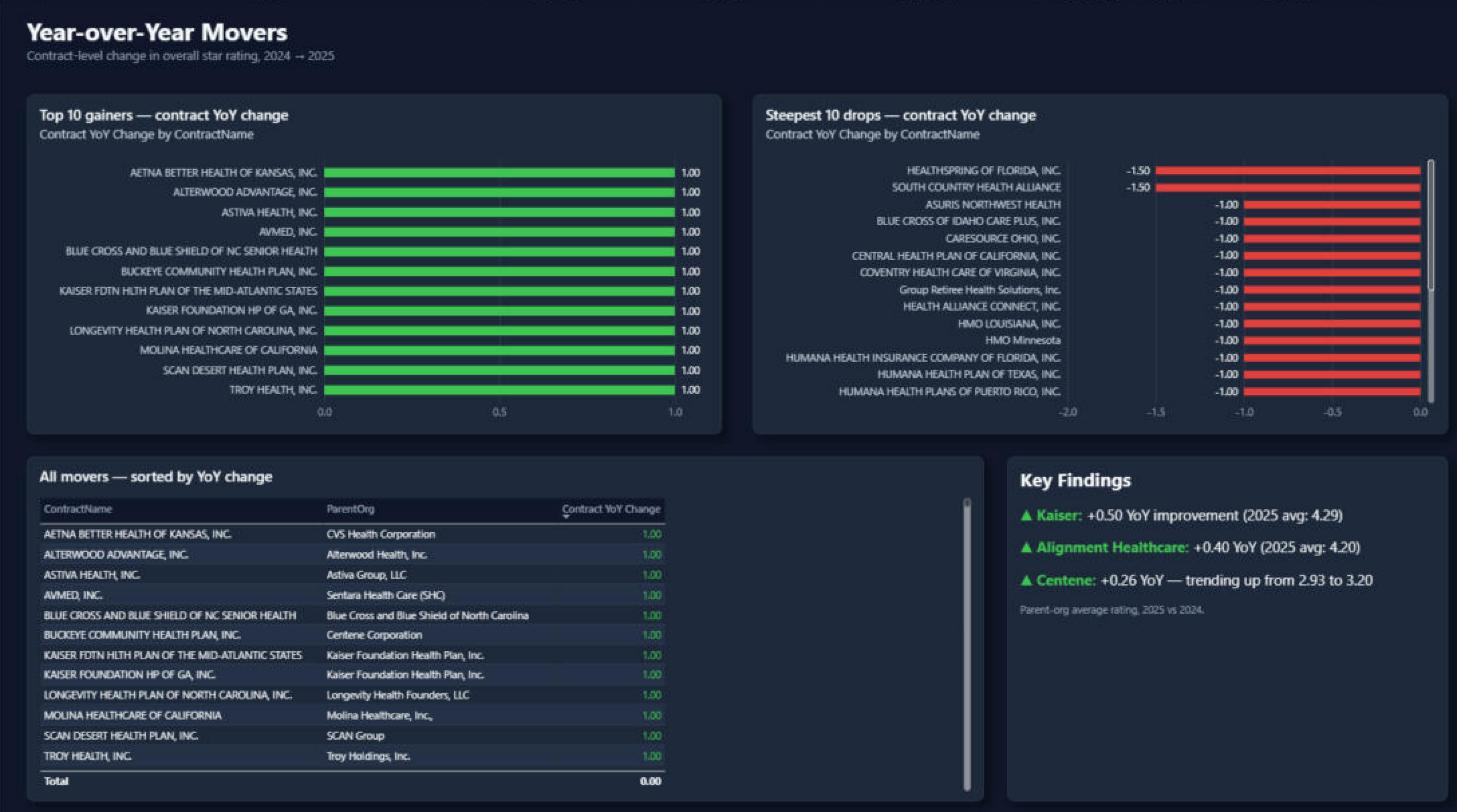

This screenshot's page, from the dashboard's own definition file:
{"tool":"powerbi","page":{"name":"Year-over-Year Movers","canvas":[1920,1080],"ordinal":1},"visuals":[{"type":"textbox","box":[40,20,1300,84],"z":100},{"type":"clusteredBarChart","title":"Top 10 gainers — contract YoY change","fields":{"Category":["DimContract.ContractName"],"Y":["_Measures.Contract YoY Change"]},"box":[40,124,900,440],"z":200},{"type":"clusteredBarChart","title":"Steepest 10 drops — contract YoY change","fields":{"Category":["DimContract.ContractName"],"Y":["_Measures.Contract YoY Change"]},"box":[980,124,900,440],"z":300},{"type":"tableEx","title":"All movers — sorted by YoY change","fields":{"Values":["DimContract.ContractName","DimContract.ParentOrg","_Measures.Contract YoY Change"]},"box":[40,594,1240,446],"z":400},{"type":"textbox","box":[1310,594,570,446],"z":500}]}

Visuals, with their boxes in screenshot pixels (x1, y1, x2, y2), scaled from the page's 1920x1080 canvas onto the 1457x812 screenshot:
textbox: 30,15,1017,78
"Top 10 gainers — contract YoY change" clusteredBarChart: 30,93,713,424
"Steepest 10 drops — contract YoY change" clusteredBarChart: 744,93,1427,424
"All movers — sorted by YoY change" tableEx: 30,447,971,782
textbox: 994,447,1427,782
